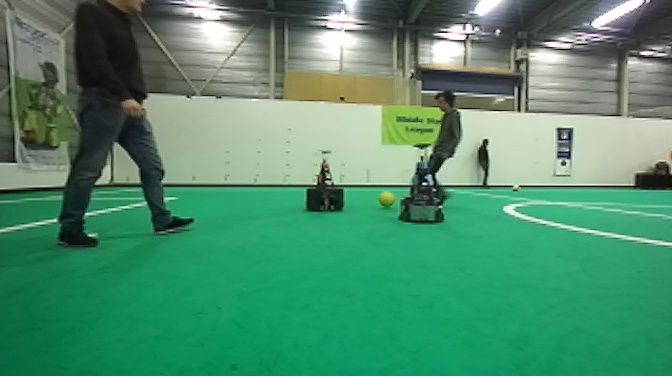ball: (376, 189, 397, 208), (509, 181, 523, 194)
human: (53, 1, 199, 251), (407, 88, 464, 207), (473, 133, 495, 189)
robot: (396, 141, 447, 225), (306, 148, 347, 212)
